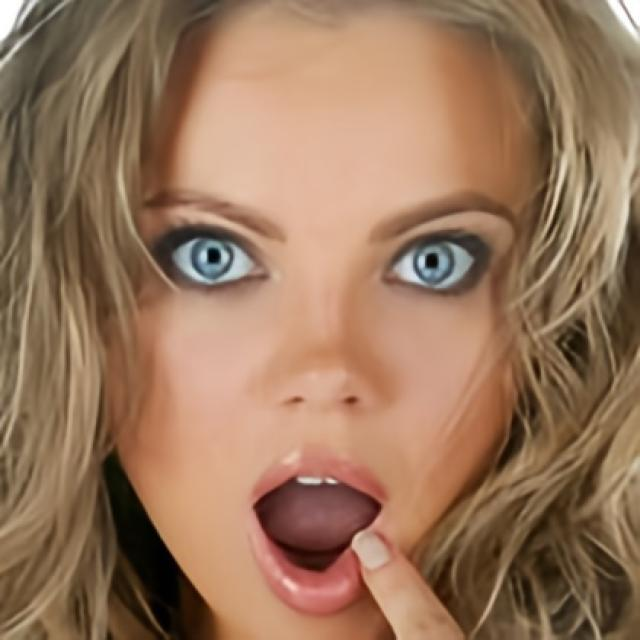surprise: (116, 0, 548, 640)
